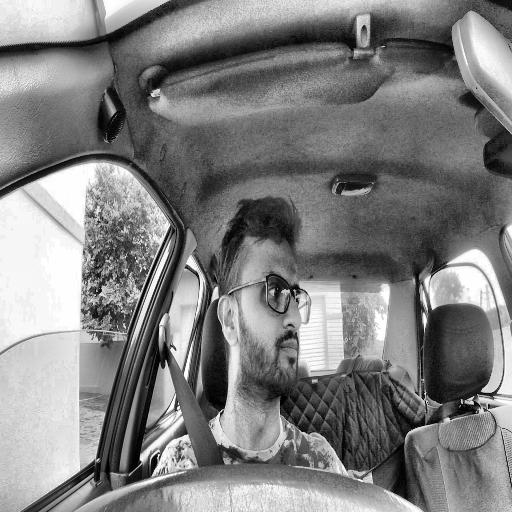awake: (216, 196, 312, 400)
